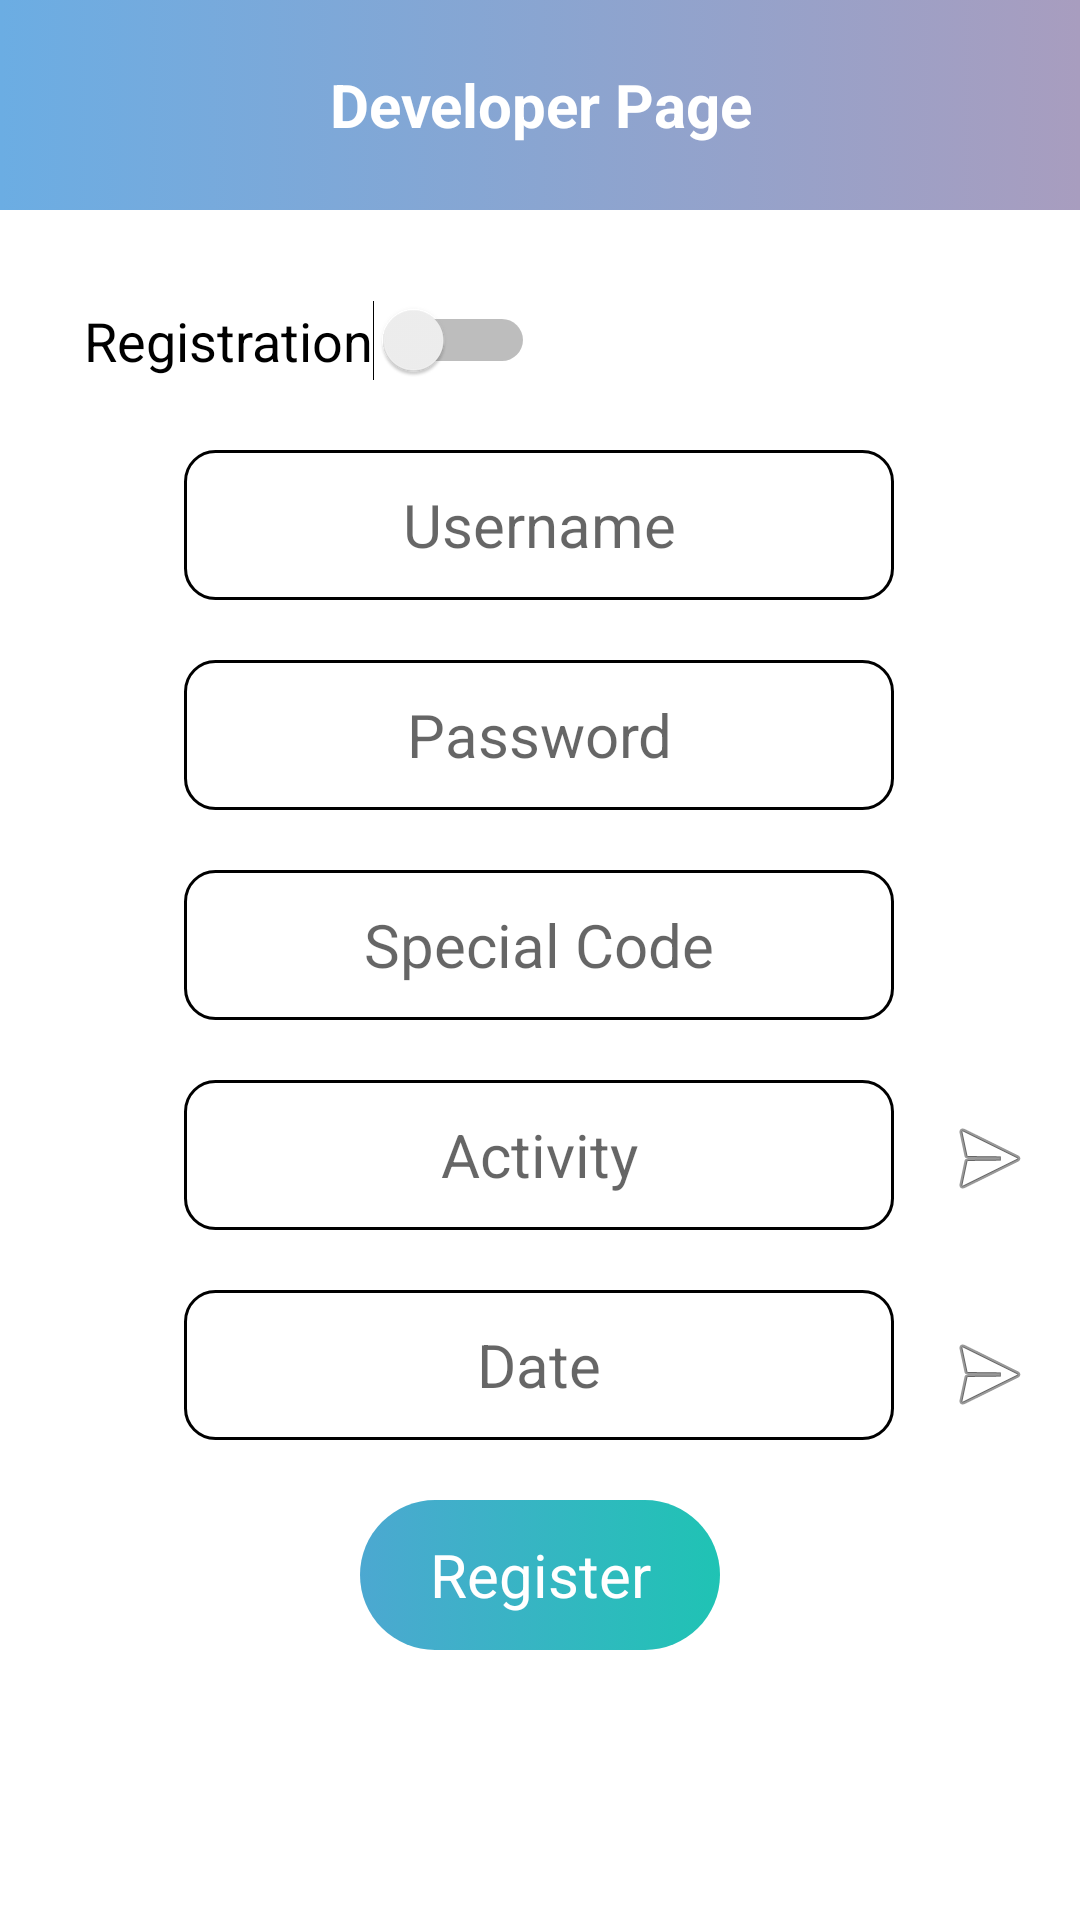

Icon bounding boxes for this 1080w x 1920h phone screenshot, format (x1, y1, x2, y2):
send: (959, 1128, 1021, 1189), (959, 1344, 1021, 1405)
